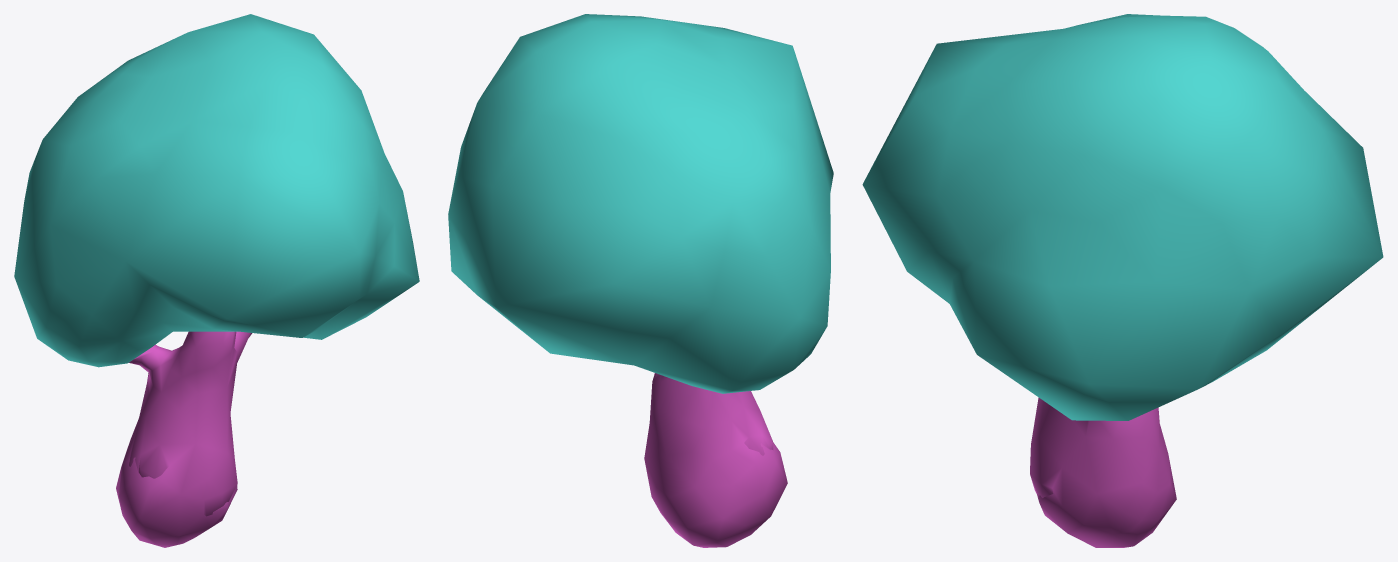
File: ExportedBlenderFBXFile.fbx
3 views of the same model, side by side, from view 1: azimuth 30°, elevation 25°; view 2: azimuth 150°, elevation 25°; view 3: azimuth 270°, elevation 25° (orthographic). The views are drawn at different scales.
Visible parts, largest first — view 1: treefat_001; view 2: treefat_001; view 3: treefat_001.
Boxes of the visible parts, <box> form: treefat_001: <box>14,14,419,547</box>; treefat_001: <box>448,14,833,547</box>; treefat_001: <box>862,14,1383,547</box>.
Bounding box in the file's own units: 10.52 × 13.59 × 11.27.
